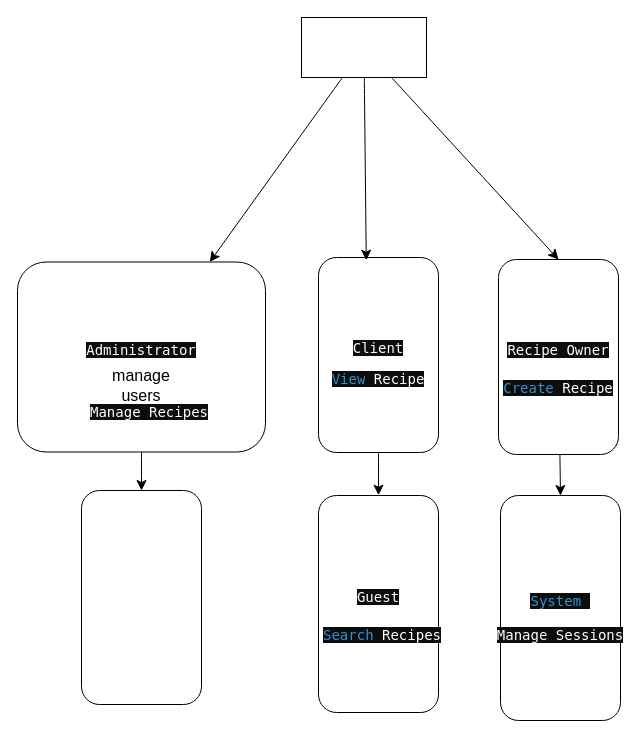
The diagram is 641 pixels wide and 738 high, and some of its shapes have lost their labels. Here are the shapes that lost their labels. From the top down, the centre of each, then its label:
At [363,47]: "Recipe System".
At [141,597]: "Moderator Moderate Content".
